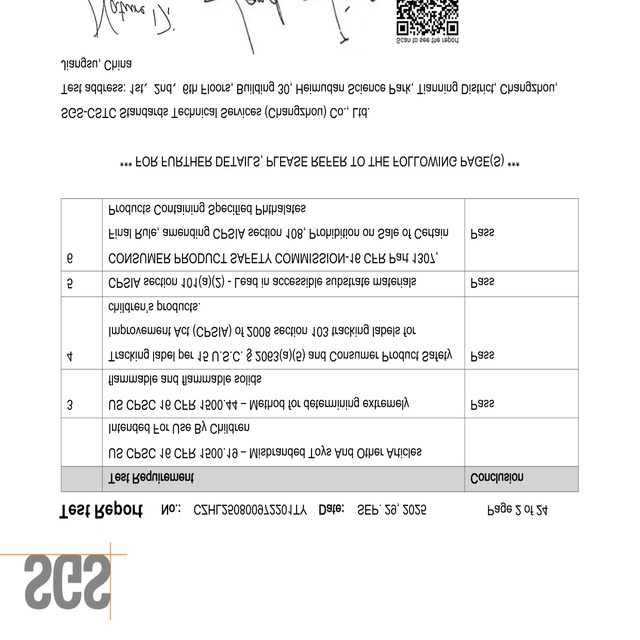sgs: (22, 553, 112, 611)
